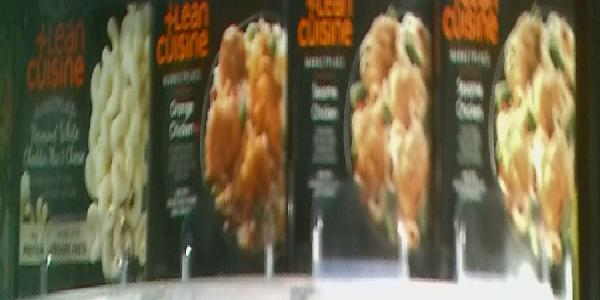pizza1: (299, 1, 459, 282), (148, 1, 299, 280), (3, 1, 147, 275), (441, 2, 579, 280)
